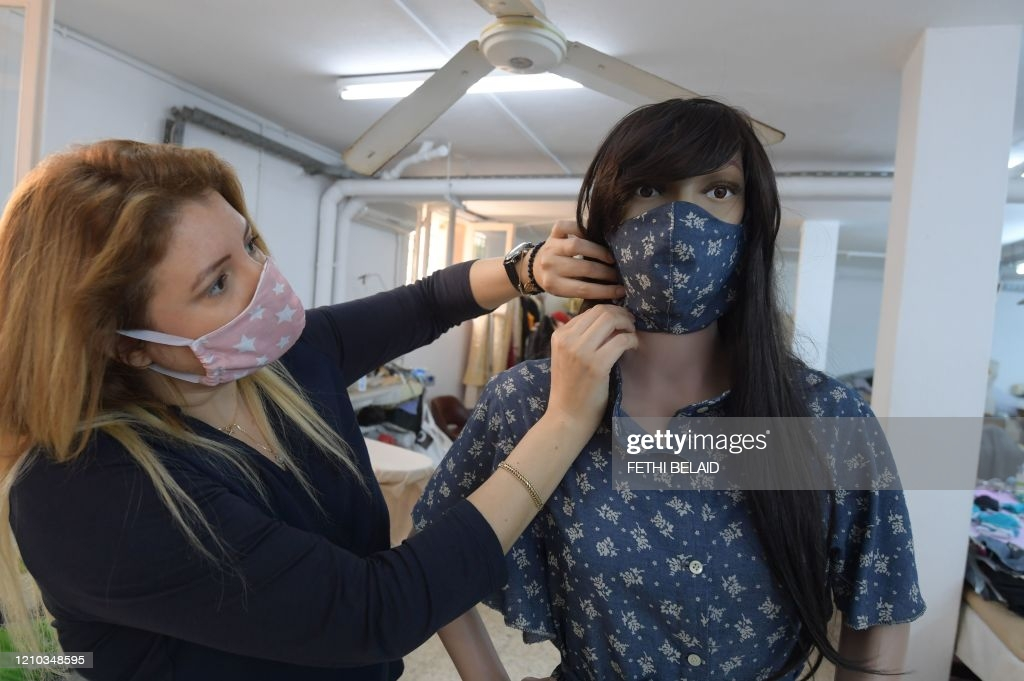with_mask: (629, 169, 740, 322), (185, 221, 290, 365)
